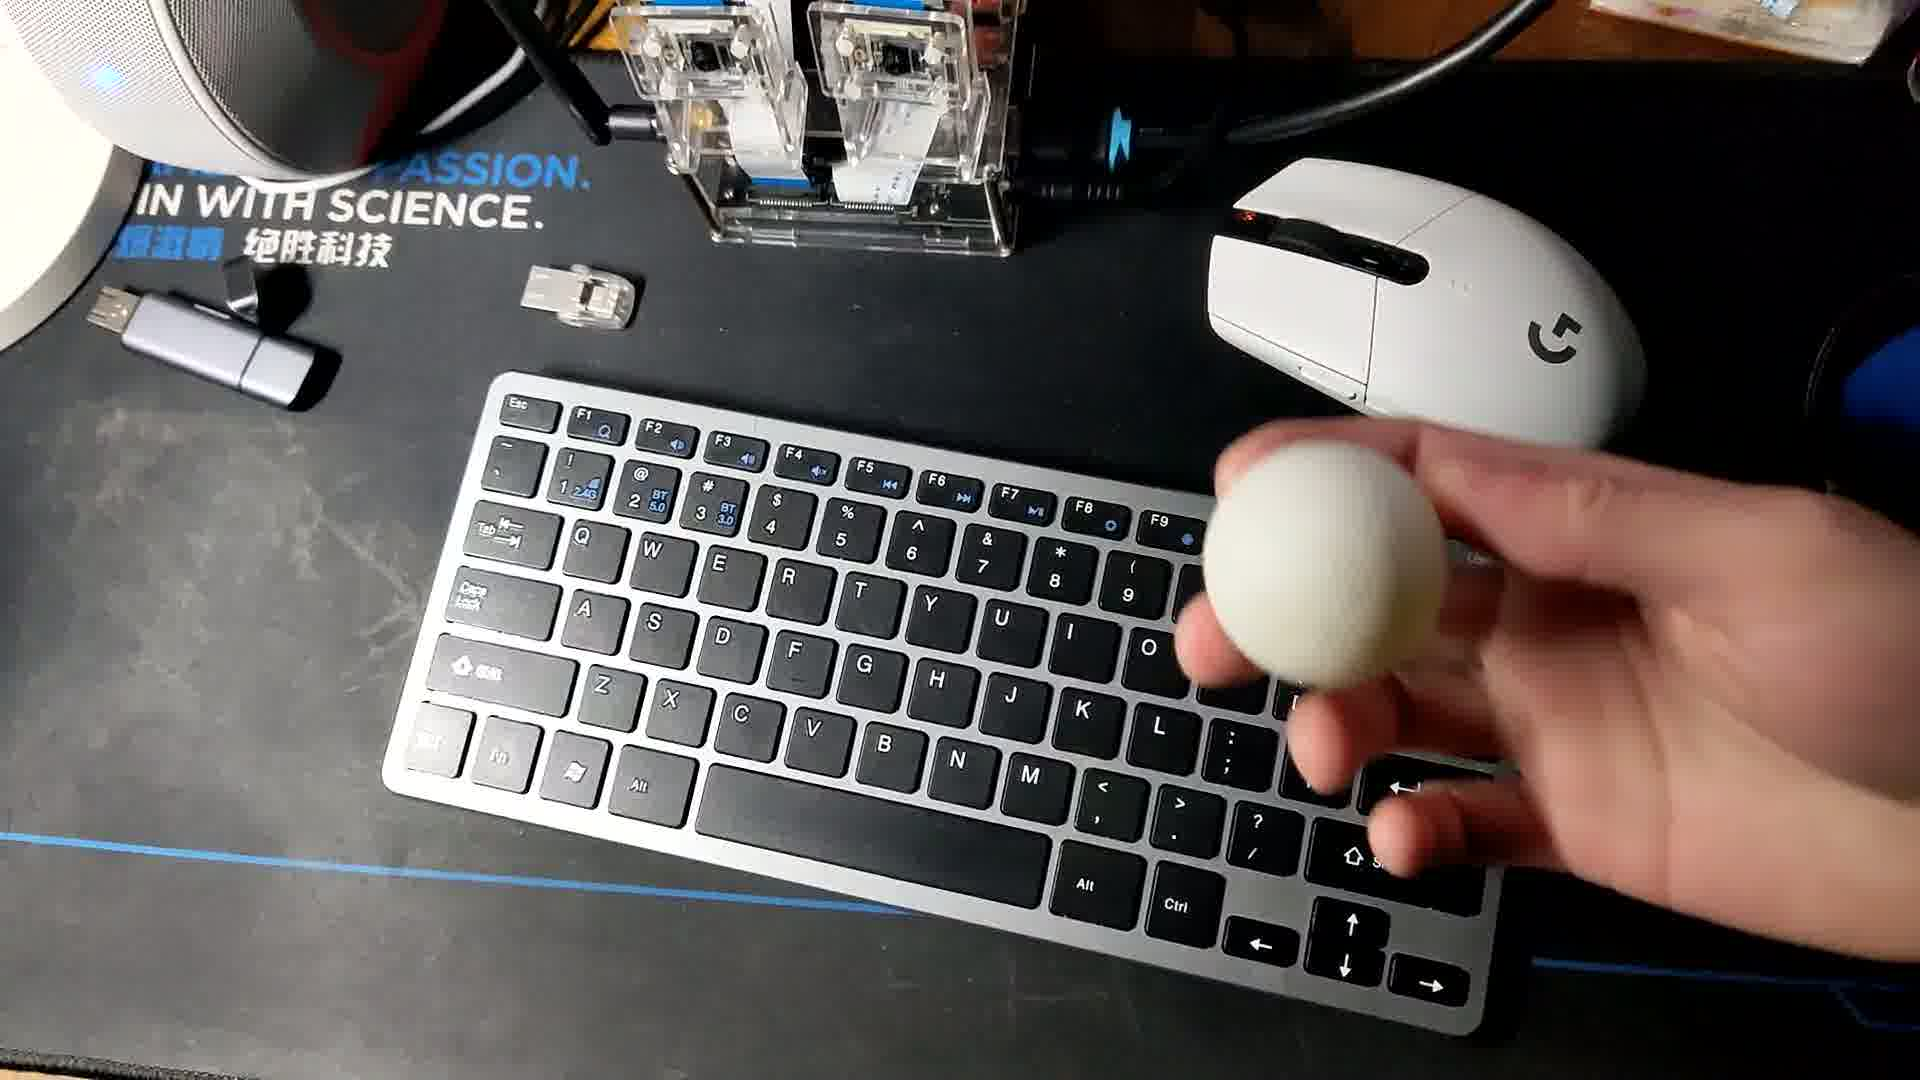Ball: (1203, 440, 1455, 683)
